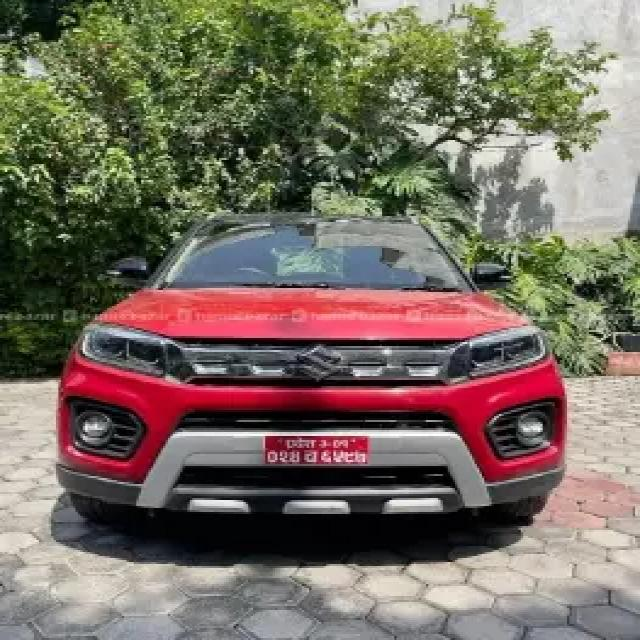License-plate: (266, 435, 371, 463)
